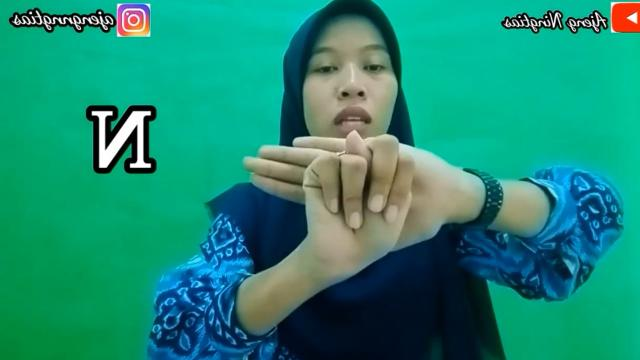N: (300, 131, 424, 270)
